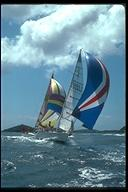sailboat: (31, 47, 112, 144)
sky: (2, 6, 125, 48)
water: (2, 143, 125, 187)
